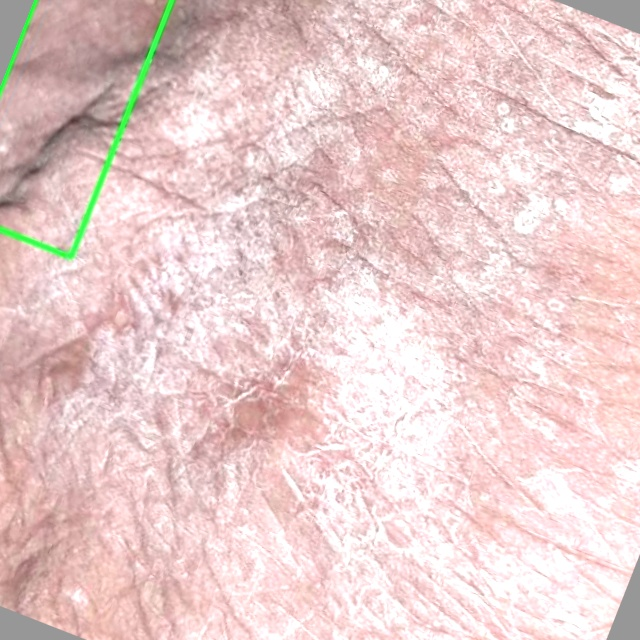Eczema: (0, 0, 171, 256)
